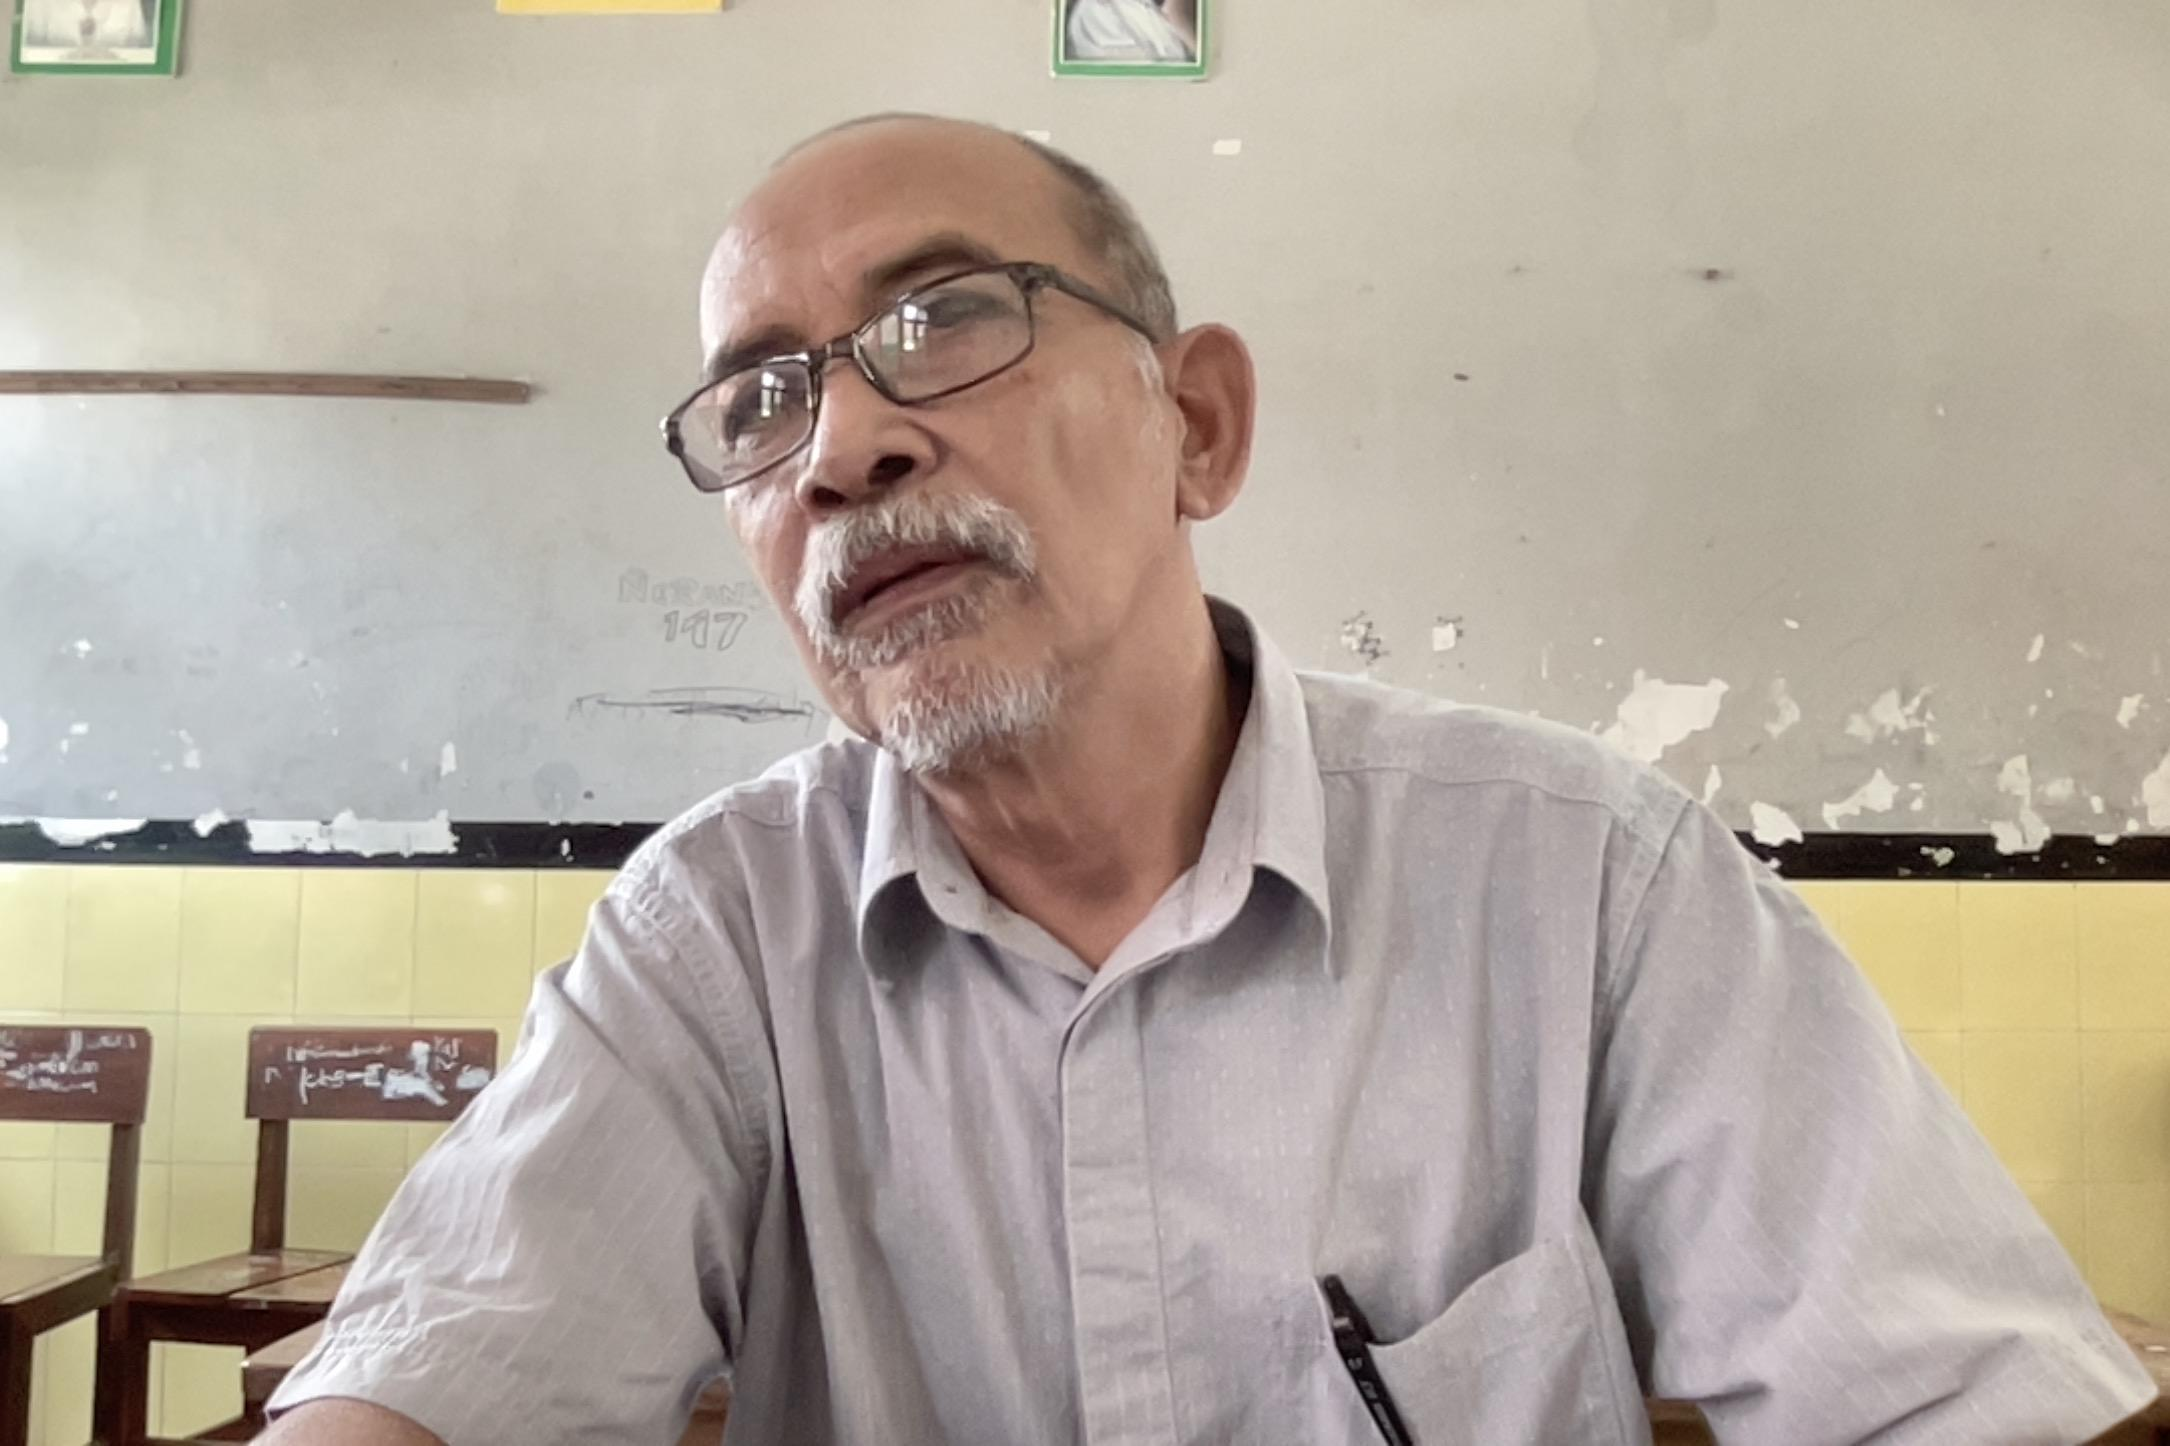cheating: (641, 58, 1304, 892)
